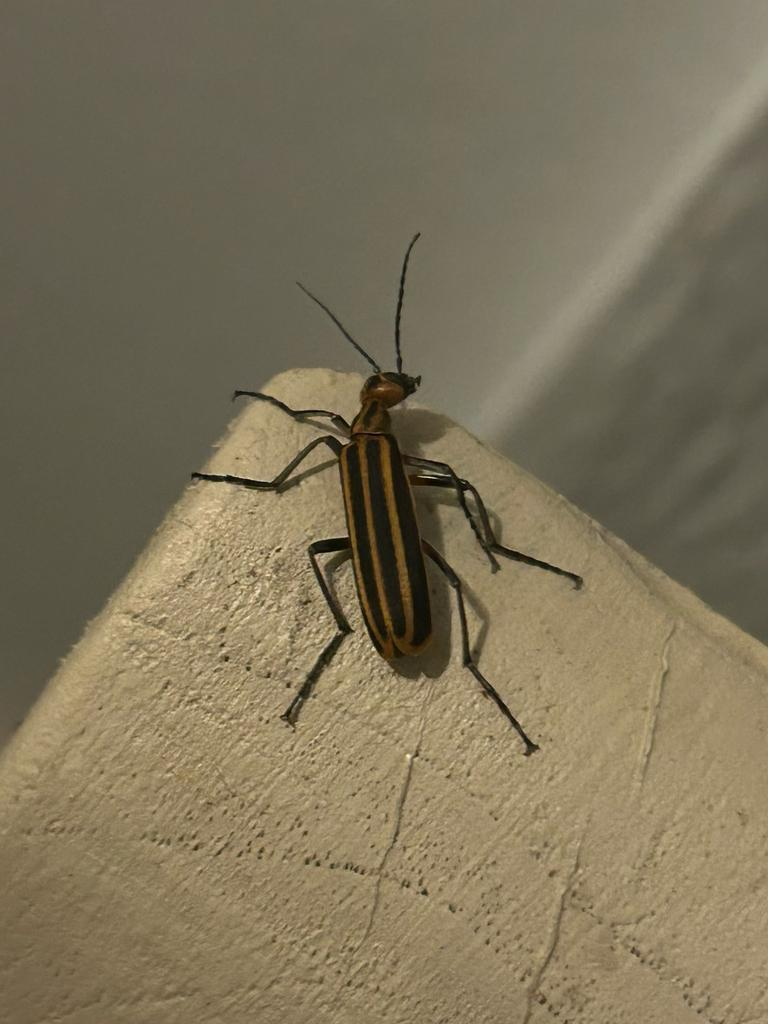blister_beetle: (137, 184, 689, 834)
